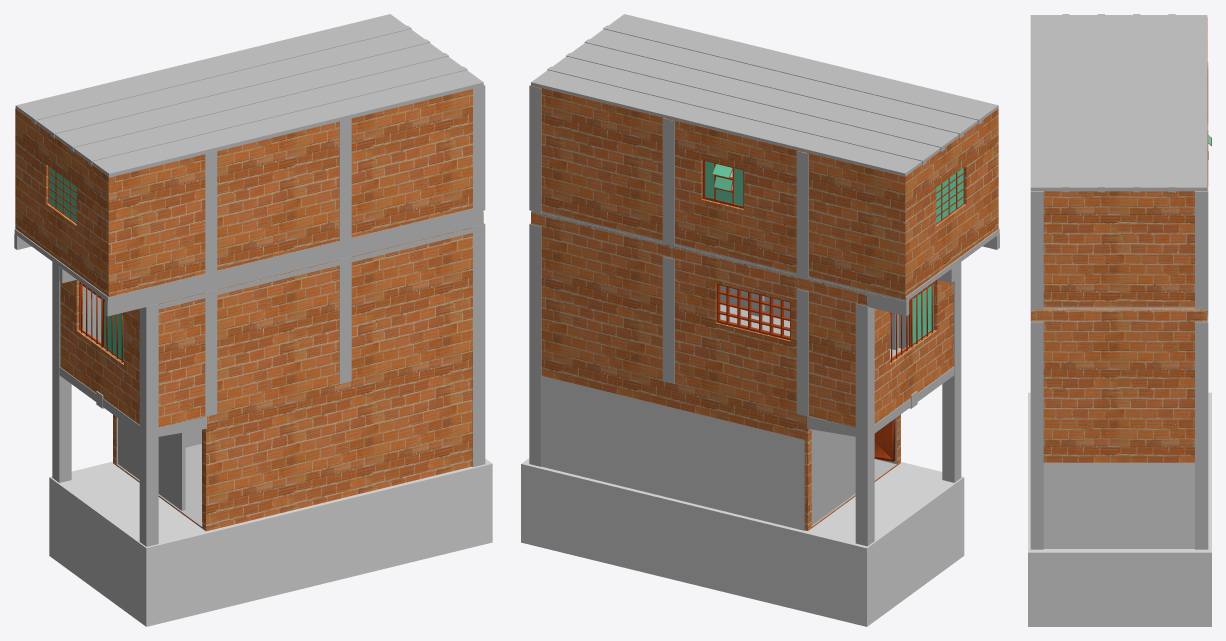
Rendered from CASA 27.fbx.
3 views of the same model, side by side, from view 1: azimuth 30°, elevation 25°; view 2: azimuth 150°, elevation 25°; view 3: azimuth 270°, elevation 25° (orthographic). The views are drawn at different scales.
Visible parts, largest first — view 1: CASA27_LOD0, Cube_LOD0, UTM_CASA27; view 2: CASA27_LOD0, Cube_LOD0, OCC_Oclusion1, UTM_CASA27; view 3: CASA27_LOD0, Cube_LOD0, OCC_Oclusion2.
Part boxes in pixels (x1,y1,x2,y2): CASA27_LOD0: (14, 14, 485, 546); Cube_LOD0: (49, 458, 492, 626); UTM_CASA27: (49, 167, 123, 360); CASA27_LOD0: (529, 14, 999, 546); Cube_LOD0: (521, 458, 964, 626); OCC_Oclusion1: (541, 376, 804, 530); UTM_CASA27: (705, 161, 963, 343); CASA27_LOD0: (1030, 14, 1211, 549); Cube_LOD0: (1028, 392, 1211, 626); OCC_Oclusion2: (1043, 462, 1194, 548).
Size of what is drawn, in the model's own units: 1020 by 1173 by 448.
